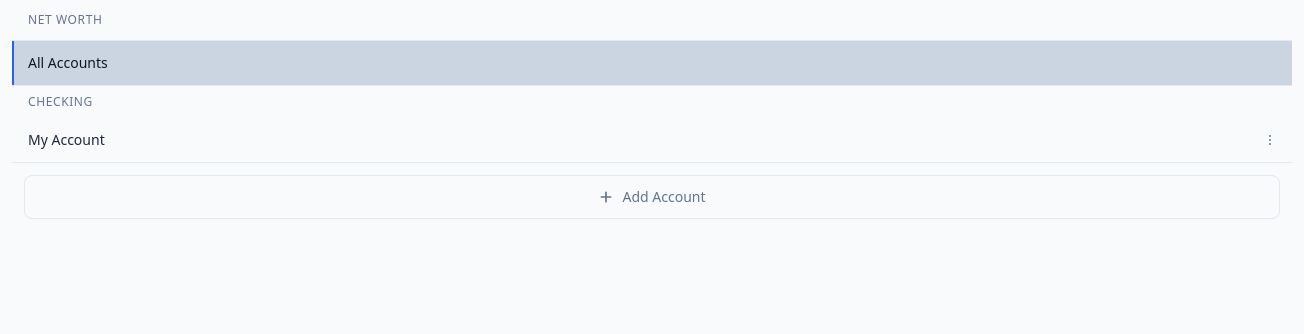
AccountSidebar › action menu › opens action menu with Edit, Archive, Delete options
Click the button named "Actions for My Account". click: (1270,140)
box: [1248,118,1292,162]
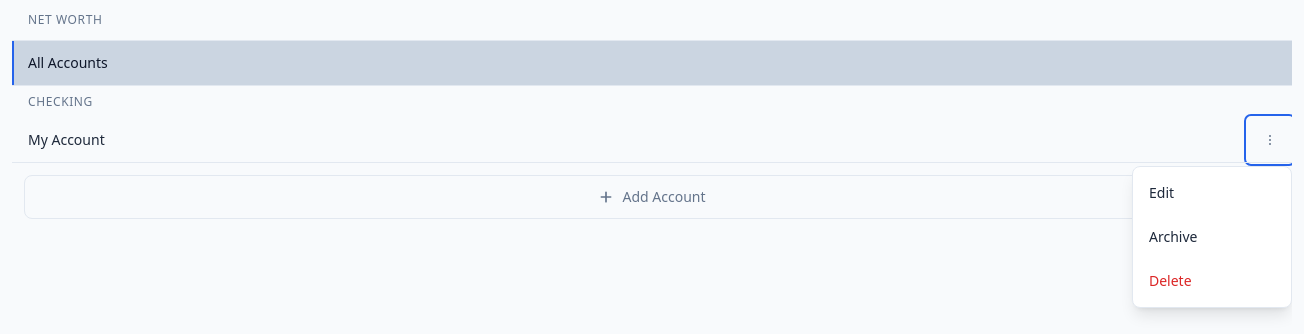
Result: the button "Edit" is shown at [1133,171,1291,215]
Result: the button "Archive" is shown at [1133,215,1291,259]
Result: the button "Delete" is shown at [1133,259,1291,303]
